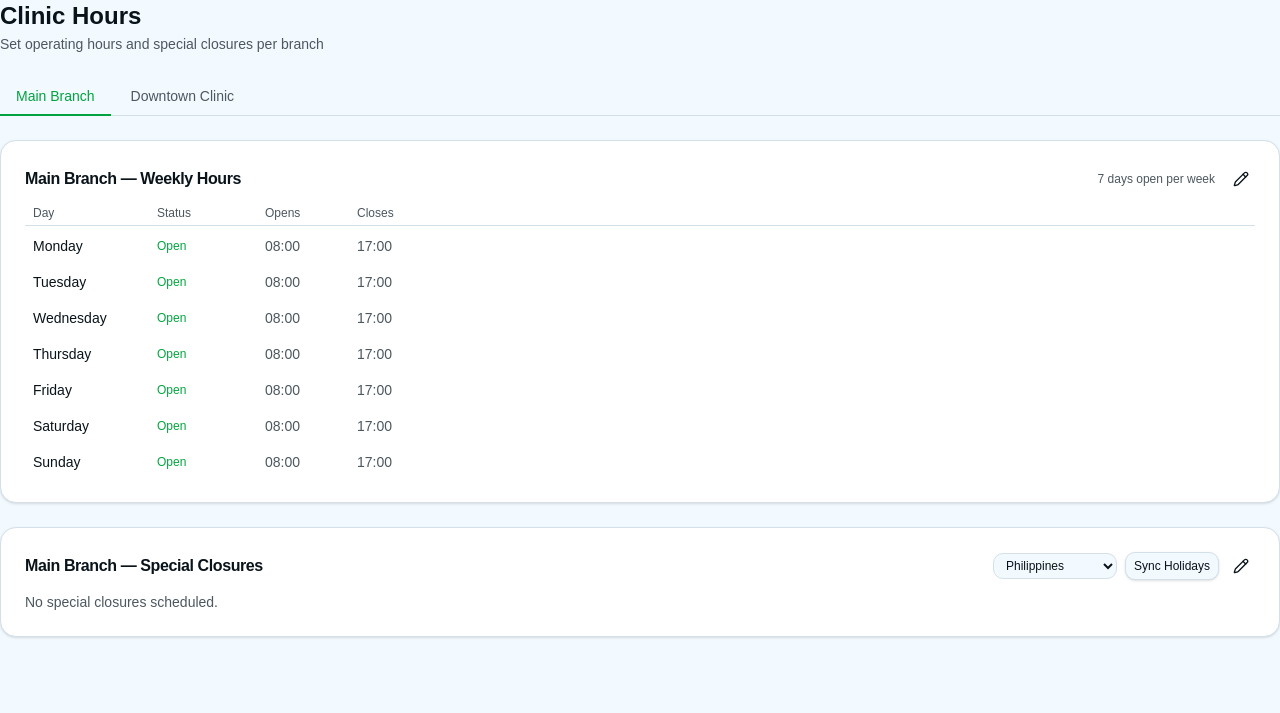
Test: ClinicHoursPage (CC-87) › Edit icon enables editing and Save button commits changes
The width and height of the screenshot is (1280, 713).
Check: the text "Monday" is shown, box x1=33 y1=238 x2=83 y2=254
# Click edit pencil button
Click the button titled "edit hours" at [1241, 179], box x1=1227 y1=165 x2=1255 y2=193
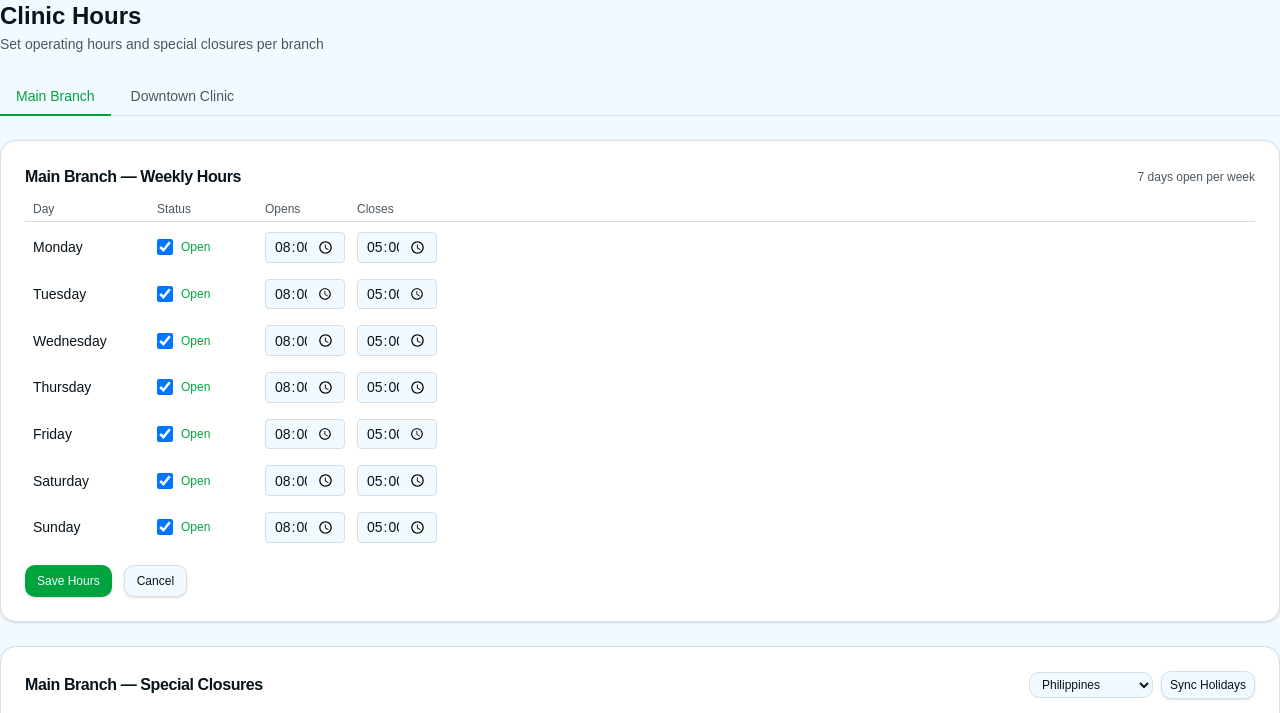
Check: the button "Save Hours" is shown
Click the button "Save Hours" at [68, 581], box x1=25 y1=565 x2=112 y2=597
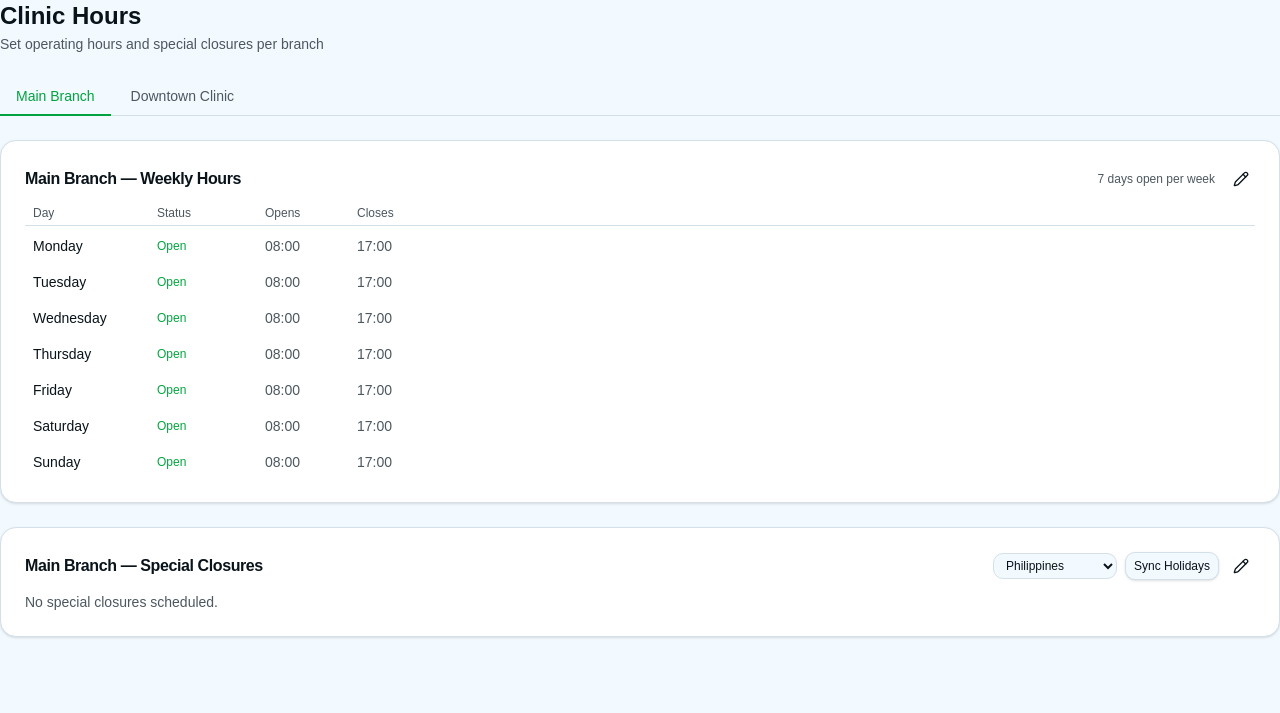
Check: the button "Save Hours" is gone
